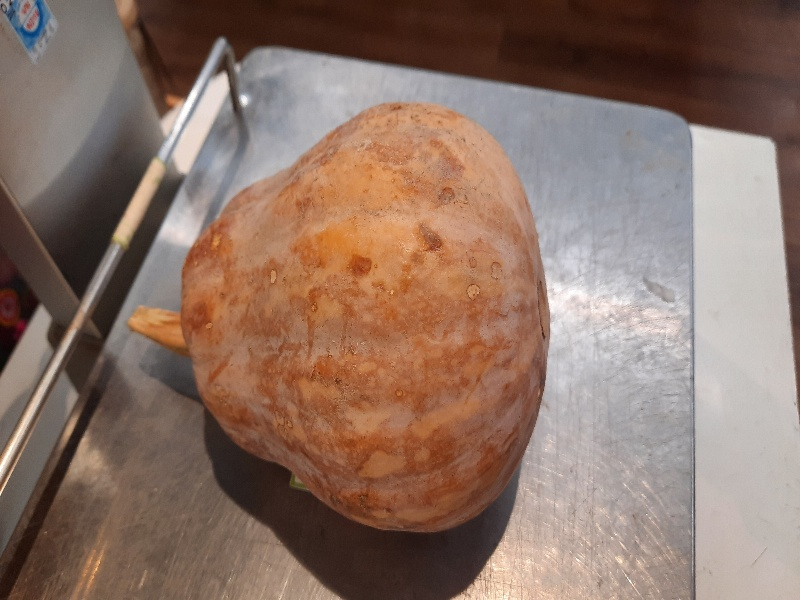vege: (124, 97, 556, 538)
